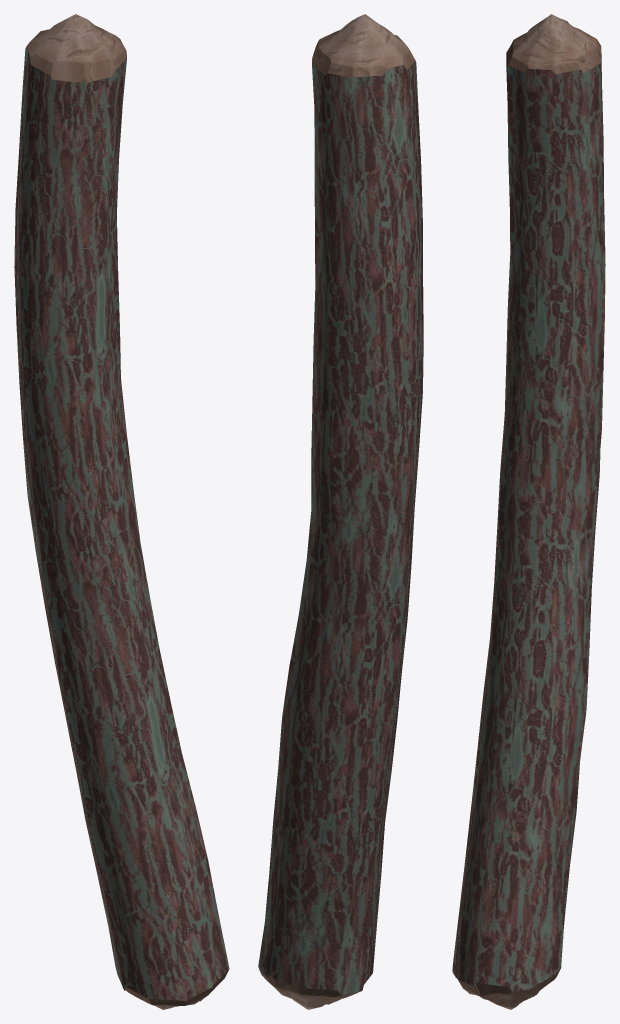
3 views of the same model, side by side, from view 1: azimuth 30°, elevation 25°; view 2: azimuth 150°, elevation 25°; view 3: azimuth 270°, elevation 25° (orthographic). The views are drawn at different scales.
Parts seen in each view (by area): view 1: SM_MapleTree_01_half_mid_LOD0; view 2: SM_MapleTree_01_half_mid_LOD0; view 3: SM_MapleTree_01_half_mid_LOD0.
Part boxes in pixels (<box>): SM_MapleTree_01_half_mid_LOD0: <box>14,14,229,1009</box>; SM_MapleTree_01_half_mid_LOD0: <box>258,14,423,1009</box>; SM_MapleTree_01_half_mid_LOD0: <box>452,14,605,1009</box>.
Bounding box in the file's own units: 0.8978 × 4.96 × 0.717.
1 material, 1 textured.
